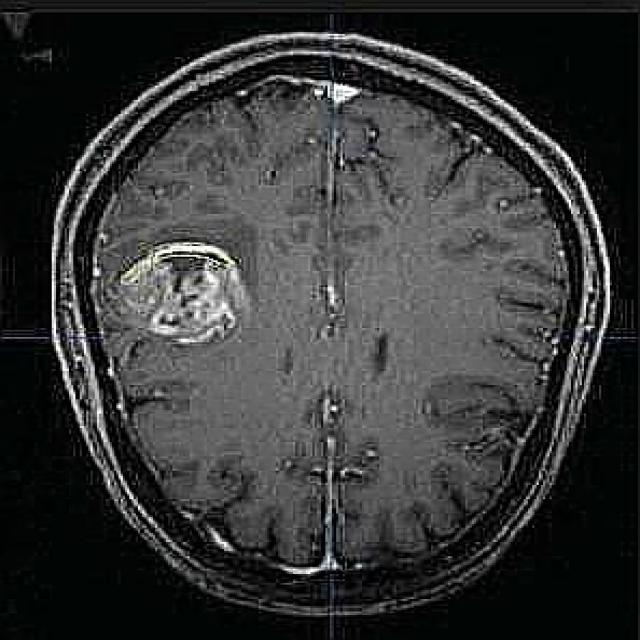Tumor-Cell: (101, 232, 267, 342)
